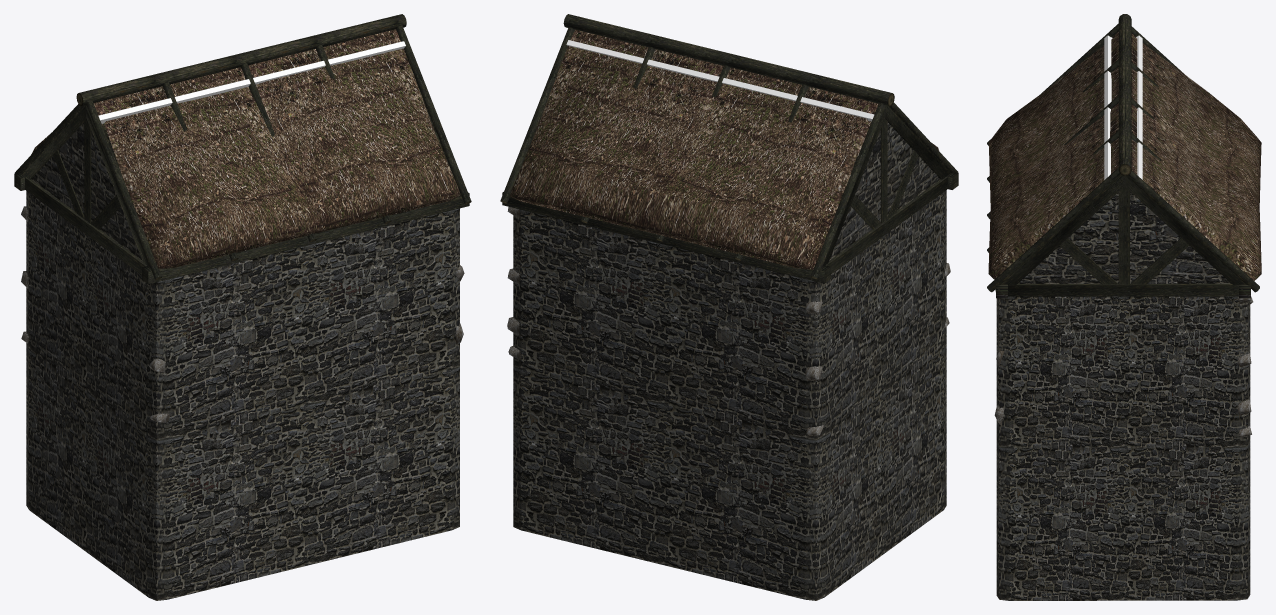
The model's file is ex_nord_house_01.obj.
The picture shows the model from 3 angles, left to right: view 1: azimuth 30°, elevation 25°; view 2: azimuth 150°, elevation 25°; view 3: azimuth 270°, elevation 25°; orthographic projection. The views are drawn at different scales.
Parts seen in each view (by area): view 1: nifid_15-matrix_Tri_Ex_nord_house_01_3-lib, nifid_23-matrix_Tri_Ex_nord_house_01_5-lib, nifid_1-matrix_Tri_Ex_nord_house_01_0-lib, nifid_6-matrix_Tri_Ex_nord_house_01_1-lib, nifid_11-matrix_Tri_Ex_nord_house_01_2-lib, nifid_33-matrix_Tri_Ex_nord_house_01_8-lib, nifid_27-matrix_Tri_Ex_nord_house_01_6-lib; view 2: nifid_15-matrix_Tri_Ex_nord_house_01_3-lib, nifid_23-matrix_Tri_Ex_nord_house_01_5-lib, nifid_1-matrix_Tri_Ex_nord_house_01_0-lib, nifid_6-matrix_Tri_Ex_nord_house_01_1-lib, nifid_11-matrix_Tri_Ex_nord_house_01_2-lib, nifid_31-matrix_Tri_Ex_nord_house_01_7-lib, nifid_27-matrix_Tri_Ex_nord_house_01_6-lib; view 3: nifid_15-matrix_Tri_Ex_nord_house_01_3-lib, nifid_23-matrix_Tri_Ex_nord_house_01_5-lib, nifid_1-matrix_Tri_Ex_nord_house_01_0-lib, nifid_11-matrix_Tri_Ex_nord_house_01_2-lib, nifid_6-matrix_Tri_Ex_nord_house_01_1-lib, nifid_33-matrix_Tri_Ex_nord_house_01_8-lib, nifid_31-matrix_Tri_Ex_nord_house_01_7-lib, nifid_27-matrix_Tri_Ex_nord_house_01_6-lib.
Part boxes in pixels (left/top/right/bottom): nifid_15-matrix_Tri_Ex_nord_house_01_3-lib: left=29, top=122, right=451, bottom=599; nifid_23-matrix_Tri_Ex_nord_house_01_5-lib: left=31, top=29, right=460, bottom=268; nifid_1-matrix_Tri_Ex_nord_house_01_0-lib: left=14, top=14, right=471, bottom=284; nifid_6-matrix_Tri_Ex_nord_house_01_1-lib: left=148, top=208, right=459, bottom=600; nifid_11-matrix_Tri_Ex_nord_house_01_2-lib: left=26, top=191, right=167, bottom=600; nifid_33-matrix_Tri_Ex_nord_house_01_8-lib: left=98, top=41, right=405, bottom=123; nifid_27-matrix_Tri_Ex_nord_house_01_6-lib: left=21, top=206, right=464, bottom=422; nifid_15-matrix_Tri_Ex_nord_house_01_3-lib: left=521, top=122, right=943, bottom=599; nifid_23-matrix_Tri_Ex_nord_house_01_5-lib: left=510, top=29, right=939, bottom=269; nifid_1-matrix_Tri_Ex_nord_house_01_0-lib: left=501, top=14, right=958, bottom=283; nifid_6-matrix_Tri_Ex_nord_house_01_1-lib: left=513, top=190, right=946, bottom=600; nifid_11-matrix_Tri_Ex_nord_house_01_2-lib: left=816, top=282, right=824, bottom=600; nifid_31-matrix_Tri_Ex_nord_house_01_7-lib: left=566, top=40, right=874, bottom=121; nifid_27-matrix_Tri_Ex_nord_house_01_6-lib: left=507, top=207, right=950, bottom=435; nifid_15-matrix_Tri_Ex_nord_house_01_3-lib: left=1009, top=191, right=1236, bottom=600; nifid_23-matrix_Tri_Ex_nord_house_01_5-lib: left=988, top=32, right=1261, bottom=280; nifid_1-matrix_Tri_Ex_nord_house_01_0-lib: left=987, top=14, right=1259, bottom=298; nifid_11-matrix_Tri_Ex_nord_house_01_2-lib: left=999, top=296, right=1247, bottom=600; nifid_6-matrix_Tri_Ex_nord_house_01_1-lib: left=996, top=298, right=1250, bottom=598; nifid_33-matrix_Tri_Ex_nord_house_01_8-lib: left=1104, top=35, right=1112, bottom=179; nifid_31-matrix_Tri_Ex_nord_house_01_7-lib: left=1136, top=35, right=1142, bottom=179; nifid_27-matrix_Tri_Ex_nord_house_01_6-lib: left=994, top=289, right=1253, bottom=437.
Size of the model in its own units: 13.68 by 18.66 by 10.56.
